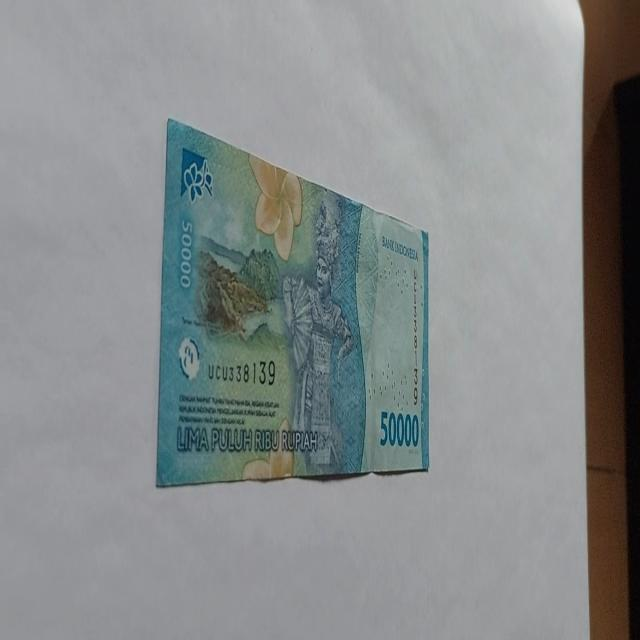lima puluh ribu rupiah: (154, 116, 430, 488)
